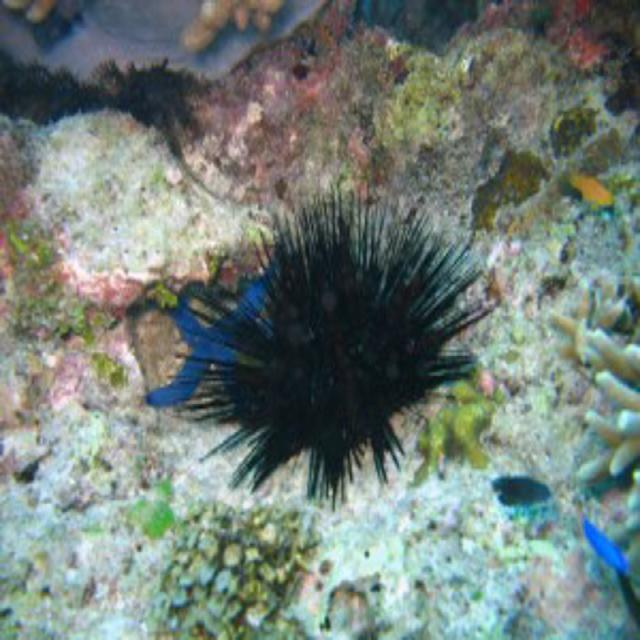Urchin: (168, 180, 494, 495)
